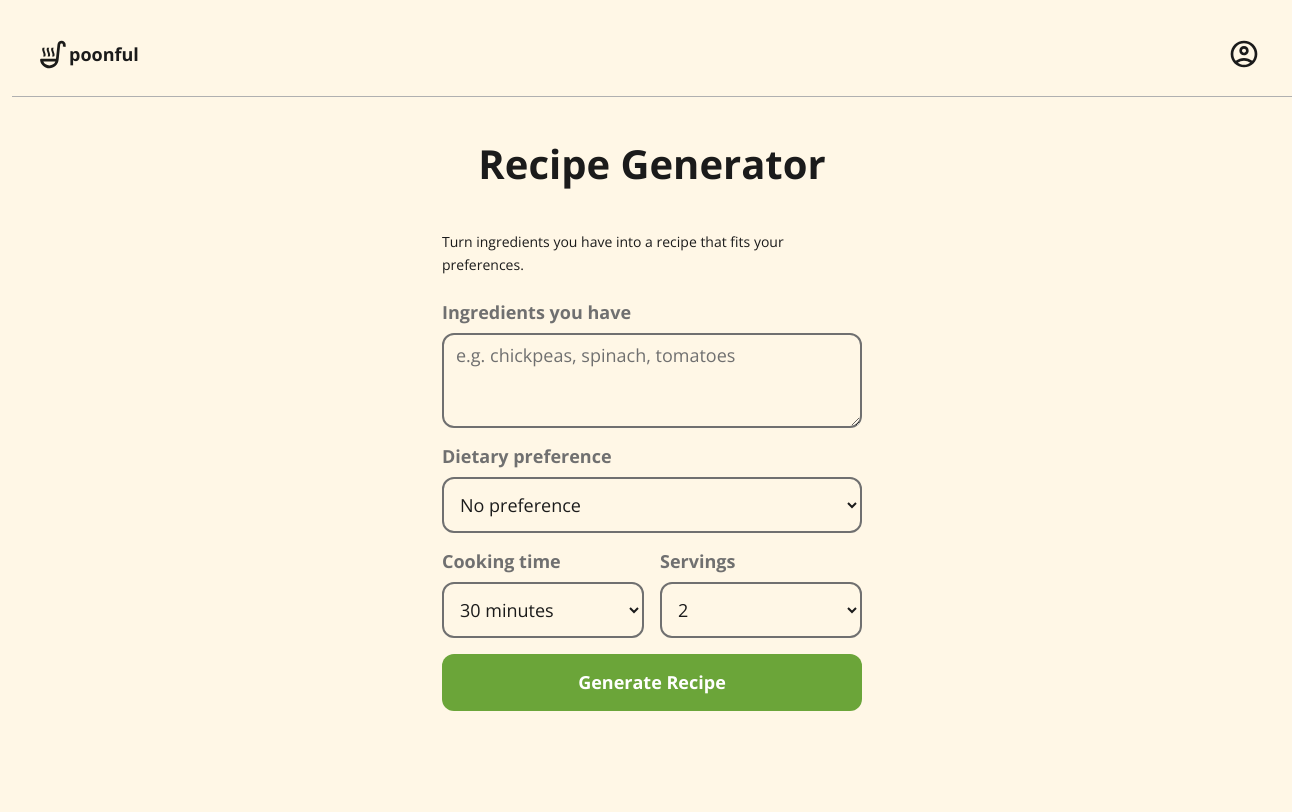
Test case: keeps inputs available for retry if generation fails
Type "chickpeas" into the text box labelled "Ingredients you have" at [652, 381], box top-left (442, 333), bottom-right (862, 428)
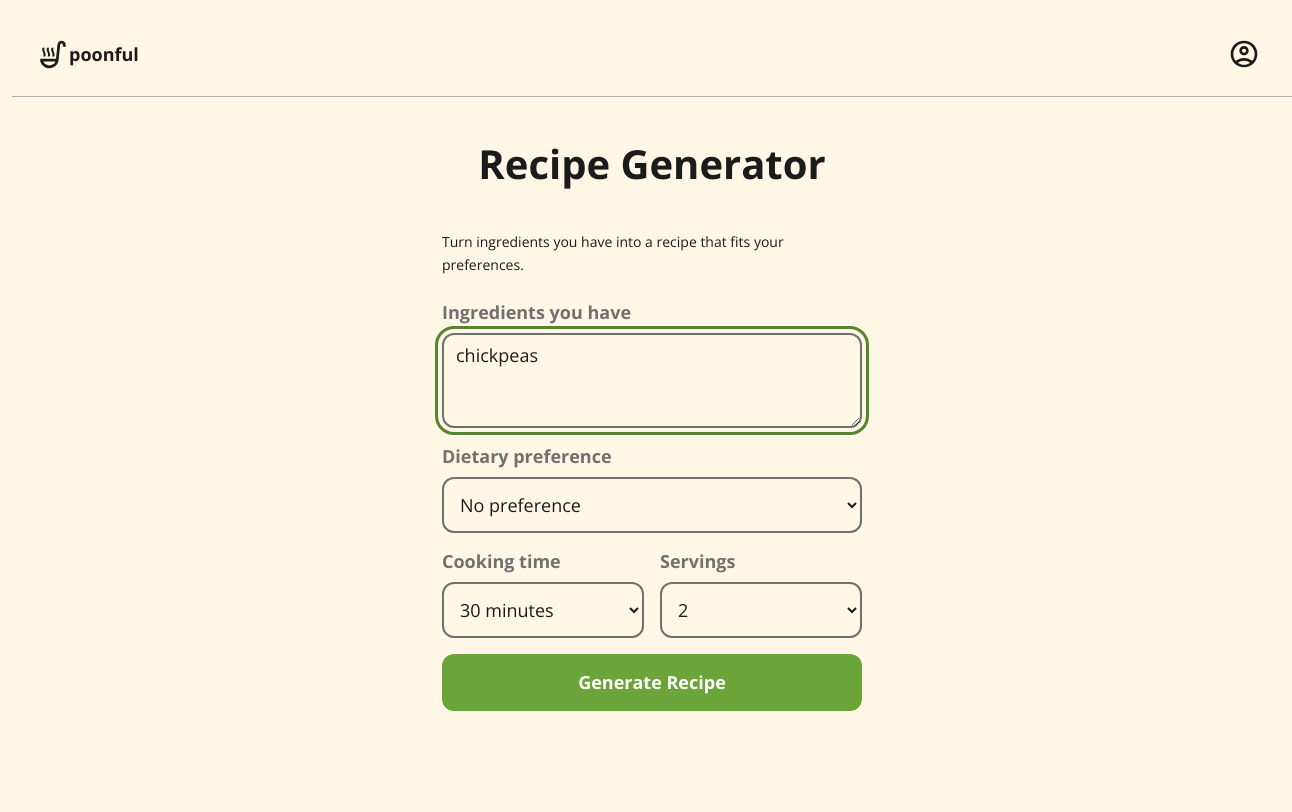
Click the button "Generate Recipe" at [652, 683], box top-left (442, 654), bottom-right (862, 711)
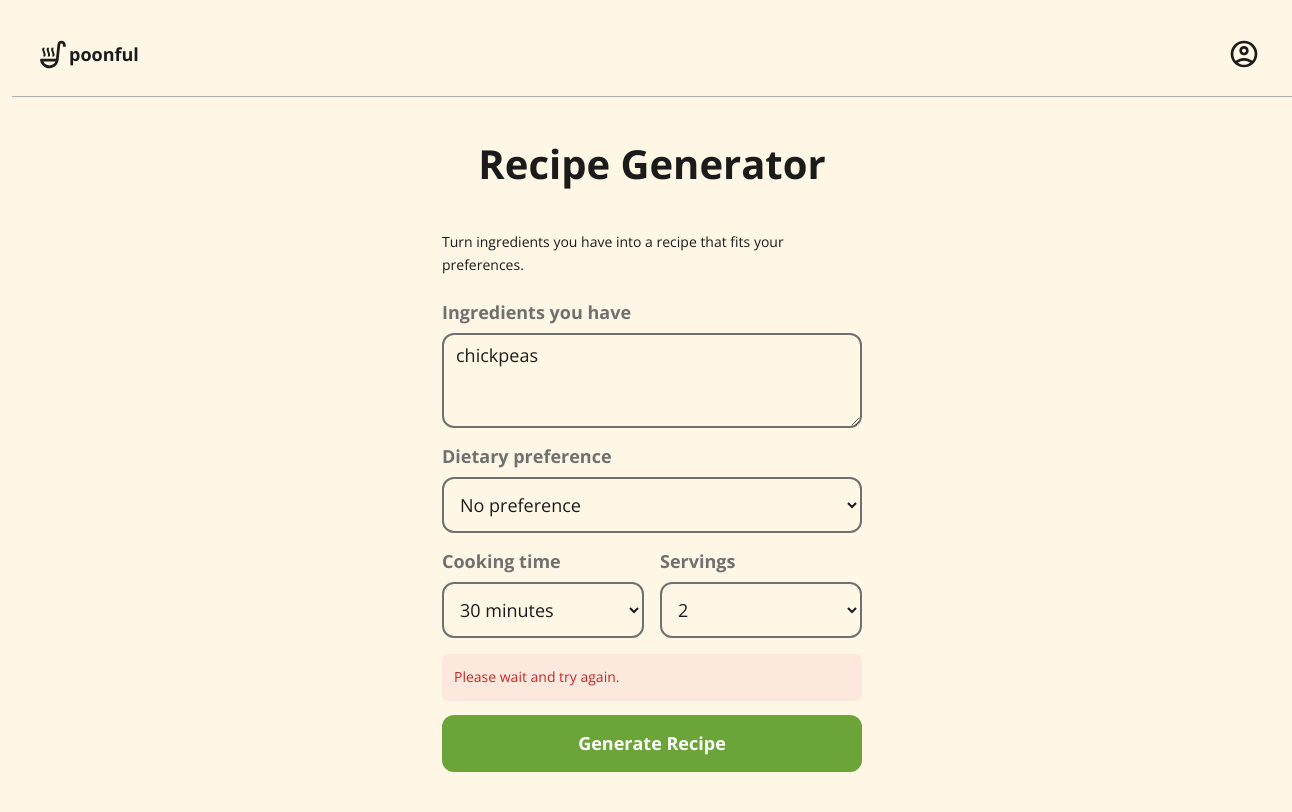
Expected: the button "Generate Recipe" is enabled, top-left (442, 715), bottom-right (862, 772)
Expected: the message shows "Please wait", top-left (454, 667), bottom-right (620, 686)
